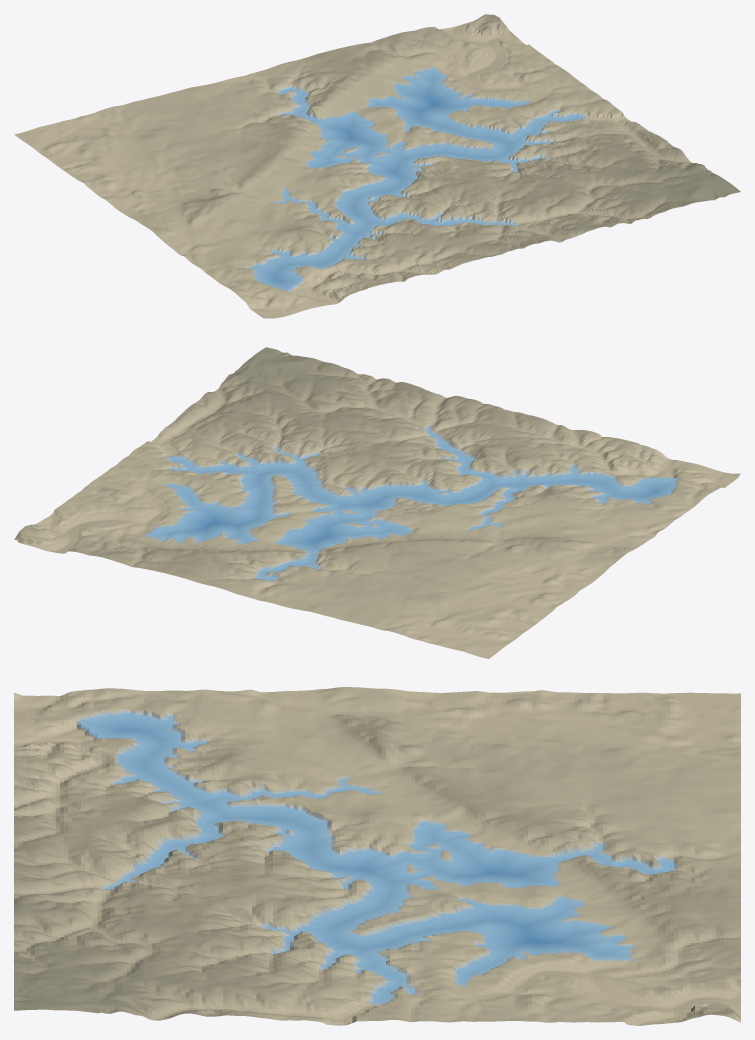
Rendered from grand_lake_ok.glb.
3 renders of one model, top to bottom at view 1: azimuth 30°, elevation 25°; view 2: azimuth 150°, elevation 25°; view 3: azimuth 270°, elevation 25°, orthographic. The views are drawn at different scales.
Parts seen in each view (by area): view 1: terrain, water; view 2: terrain, water; view 3: terrain, water.
Boxes of the visible parts, box(x1,y1,x2,y2) form: terrain: box(14, 14, 740, 318); water: box(247, 68, 584, 290); terrain: box(14, 347, 740, 658); water: box(146, 427, 676, 580); terrain: box(14, 687, 740, 1025); water: box(76, 713, 673, 1002).
Size of the model in its own units: 28818 by 876 by 26520.
